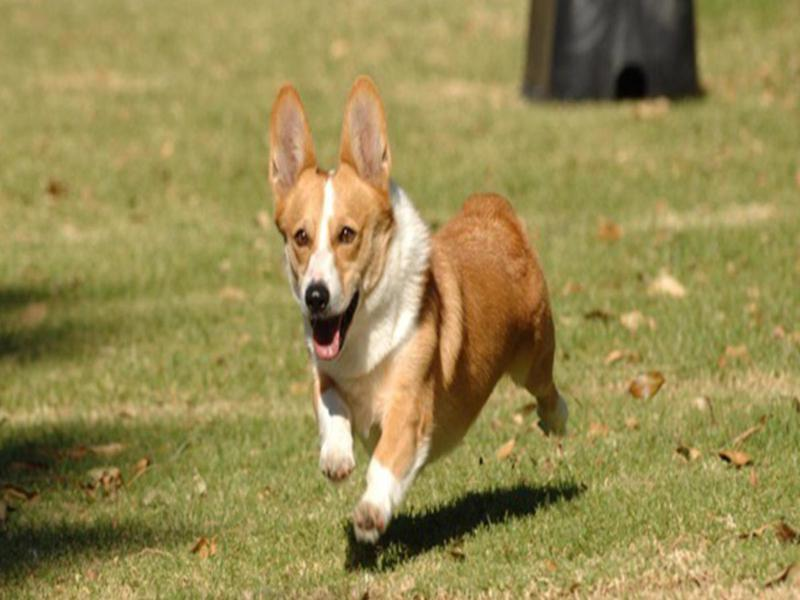corgi: (266, 72, 395, 361)
